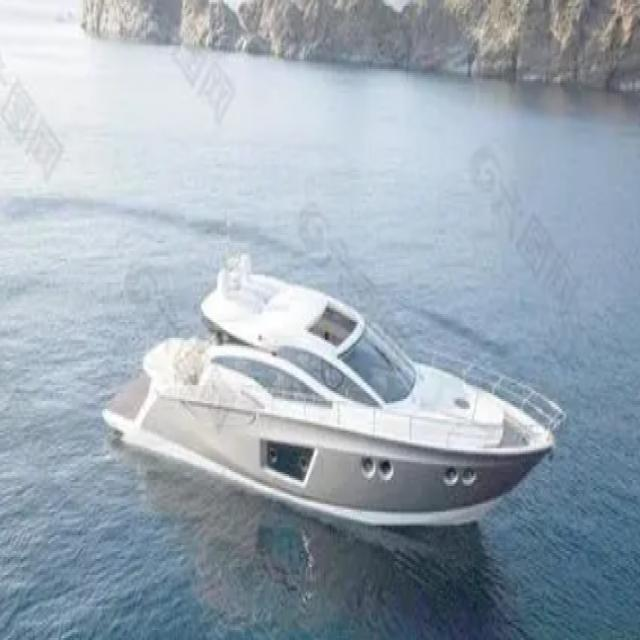houseboat: (113, 252, 555, 529)
